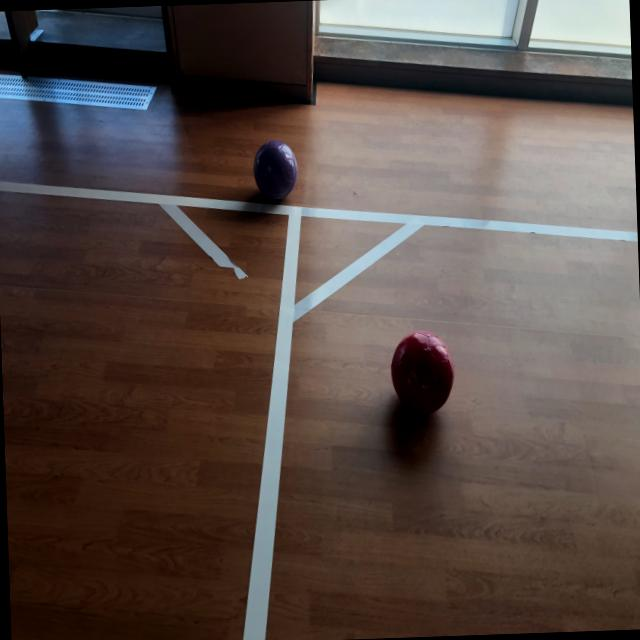purple_ball: (250, 142, 300, 202)
red_ball: (390, 333, 454, 415)
